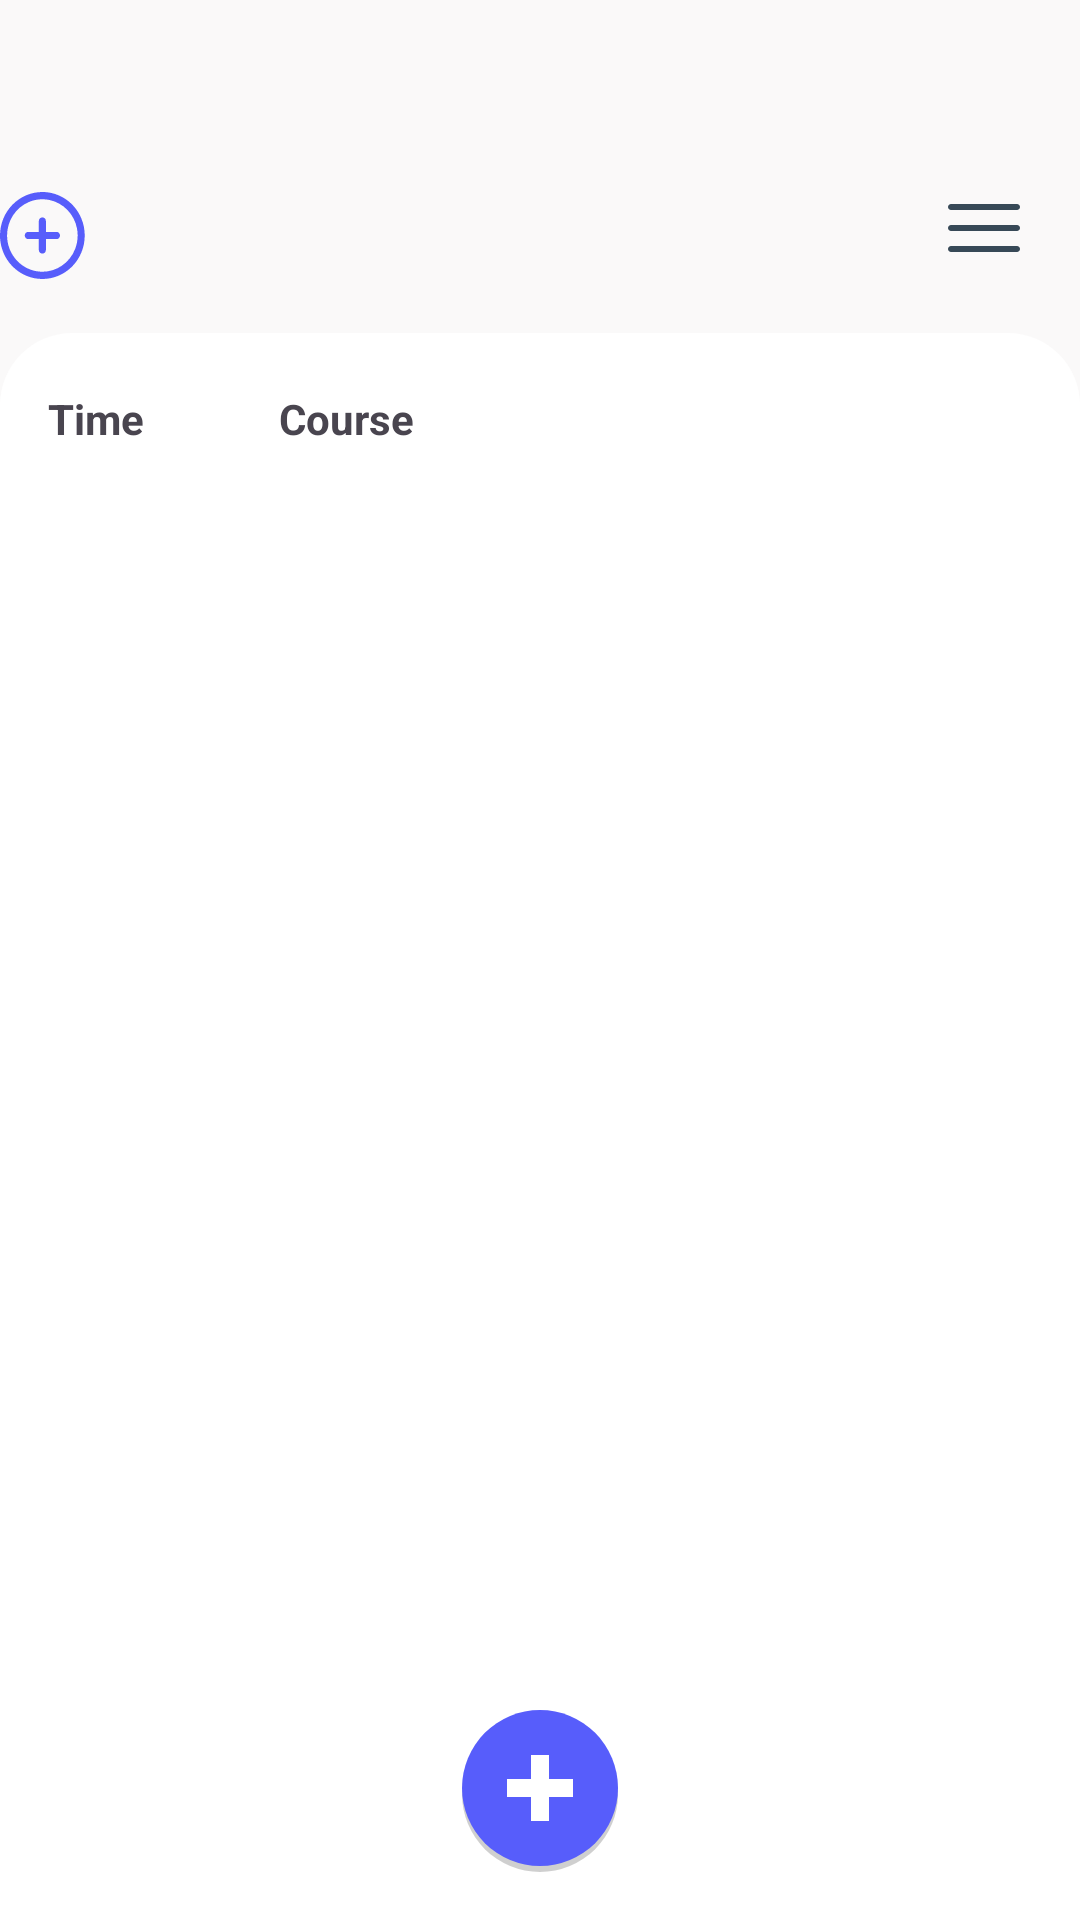

Locate icon controls on the screen. Image size 1080 × 1920, boxes as (x1, y1, x2, y2).
add: (0, 192, 85, 279)
menu: (948, 204, 1020, 252)
일정 추가 버튼: (462, 1710, 618, 1872)
